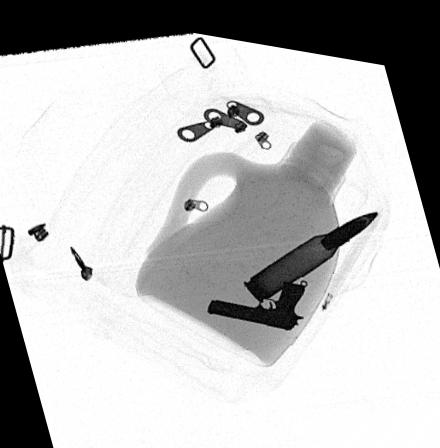Bullet: (242, 198, 379, 294)
Gun: (204, 270, 306, 320)
